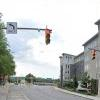traffic lights: (45, 29, 51, 46)
